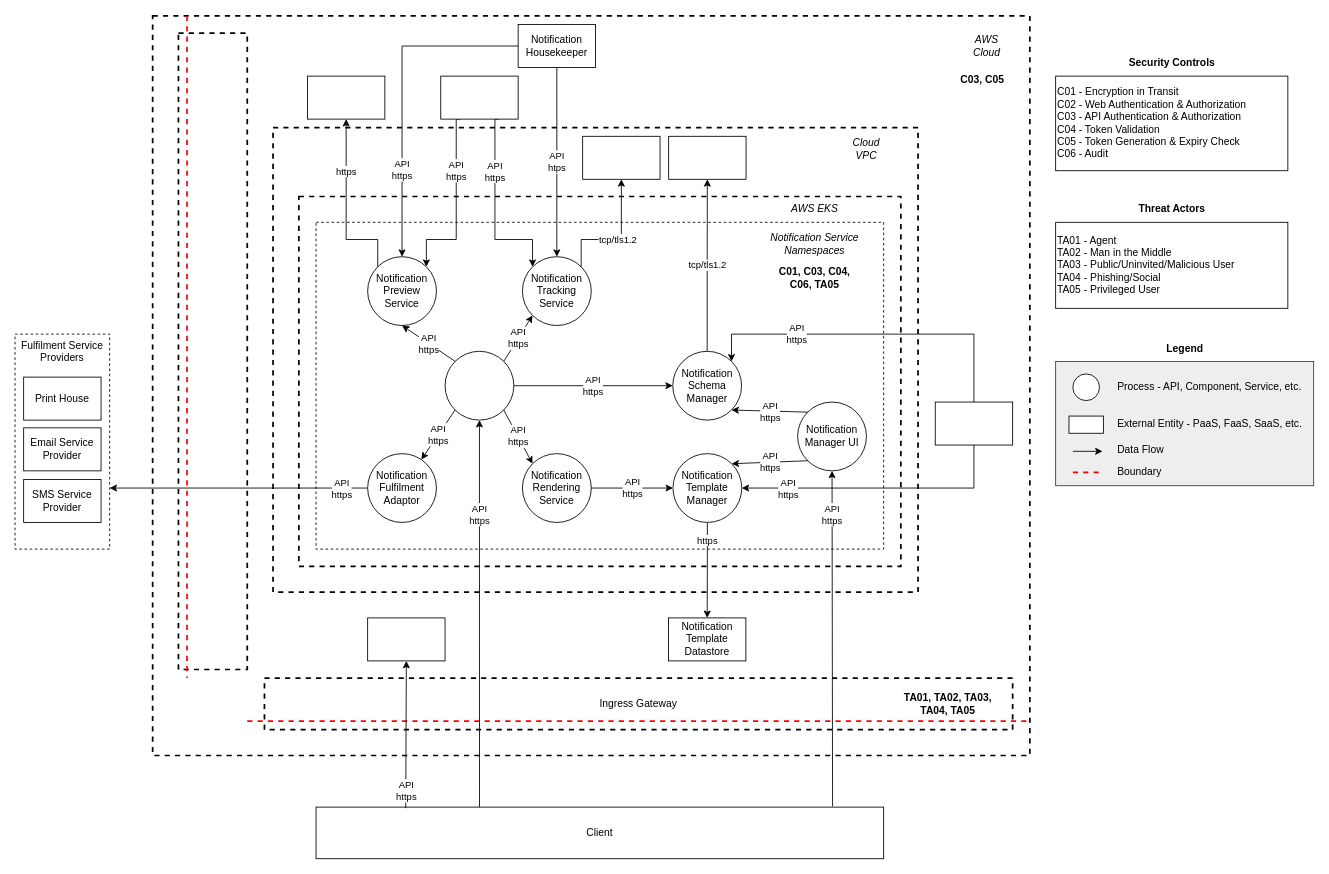
Some shapes in this 1329 by 874 pixel diagram are drawn without their labels. Each missing label, with the centre of its shape:
Authentication Service: point 406,639
Egress Gateway: point 212,351
Notification Adaptor: point 479,385
Notification Event Adaptor: point 479,97
Notification Preview Datastore: point 346,97
Notification Record Database: point 621,157
Notification Schema Database: point 707,157
Template Housekeeper: point 973,423
